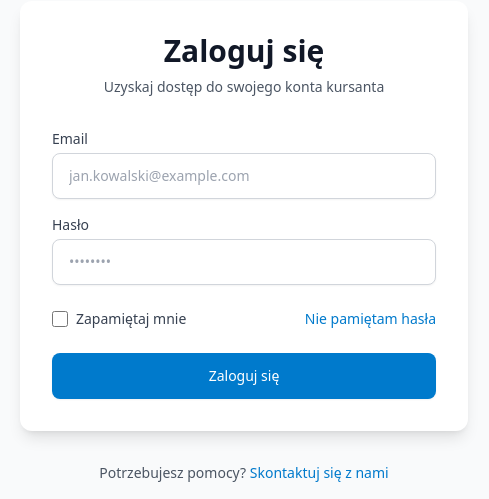
Test: Login Component › Password Reset › should handle forgot password click
Click the button with test id "forgot-password-button" at {"x": 370, "y": 319}, box [305,309,436,329]
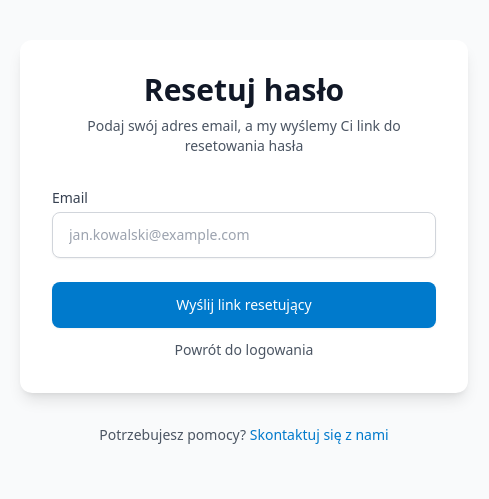
Result: the heading "Resetuj hasło" is shown at [144,68,344,110]
